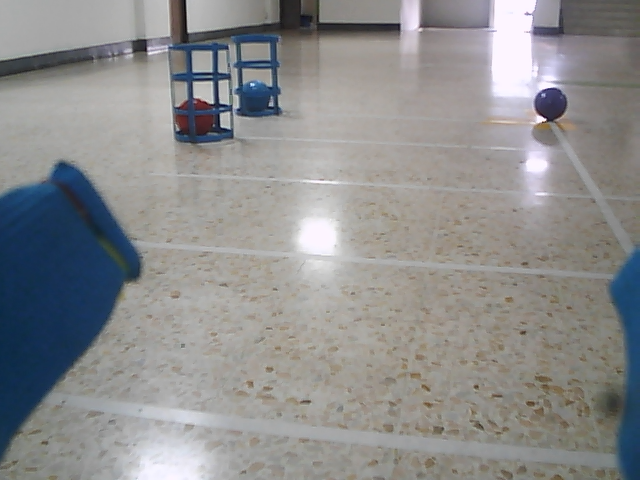Blue ball: (242, 80, 272, 112)
Cyro: (166, 41, 236, 143), (229, 32, 283, 119)
Purple ball: (533, 87, 568, 122)
Red ball: (175, 98, 215, 136)
